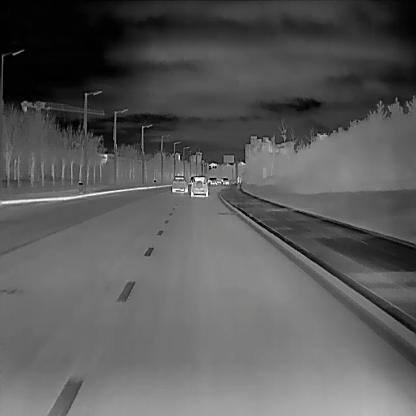car: (190, 176, 208, 197), (171, 176, 187, 193), (208, 177, 217, 185), (220, 177, 228, 185)
